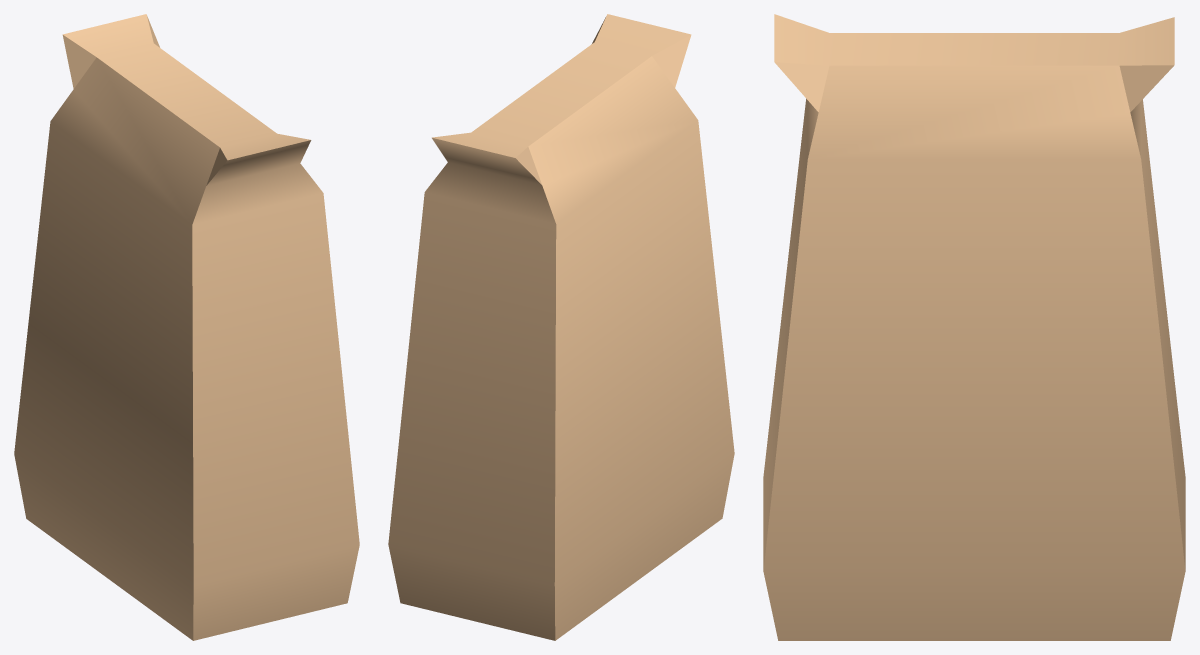
File: bag.obj
3 renders of one model, left to right at view 1: azimuth 30°, elevation 25°; view 2: azimuth 150°, elevation 25°; view 3: azimuth 270°, elevation 25°, orthographic. The views are drawn at different scales.
Visible parts, largest first — view 1: bag; view 2: bag; view 3: bag.
Boxes of the visible parts, x1,y1,x2,y2 form: bag: (14,14,359,640); bag: (388,14,734,640); bag: (763,14,1185,640).
Size of the model in its own units: 0.2201 by 0.5998 by 0.4118.
